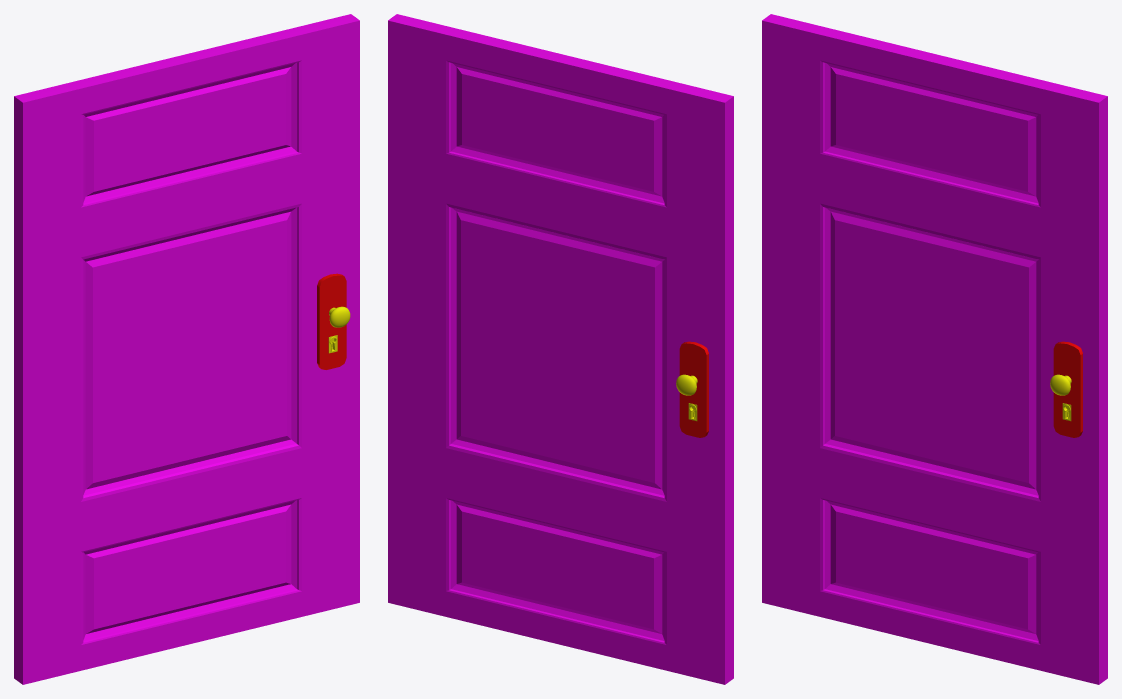
Rendered from Door_A.fbx.
3 renders of one model, left to right at view 1: azimuth 30°, elevation 25°; view 2: azimuth 150°, elevation 25°; view 3: azimuth 330°, elevation 25°, orthographic.
Parts seen in each view (by area): view 1: Door, DoorLock; view 2: Door, DoorLock; view 3: Door, DoorLock.
Boxes of the visible parts, left/top/right/bottom form: Door: left=14, top=14, right=359, bottom=684; DoorLock: left=317, top=273, right=346, bottom=369; Door: left=388, top=14, right=733, bottom=684; DoorLock: left=679, top=341, right=708, bottom=437; Door: left=762, top=14, right=1107, bottom=684; DoorLock: left=1053, top=341, right=1082, bottom=437.
Bounding box in the file's own units: 1.3 × 2.15 × 0.2213.
